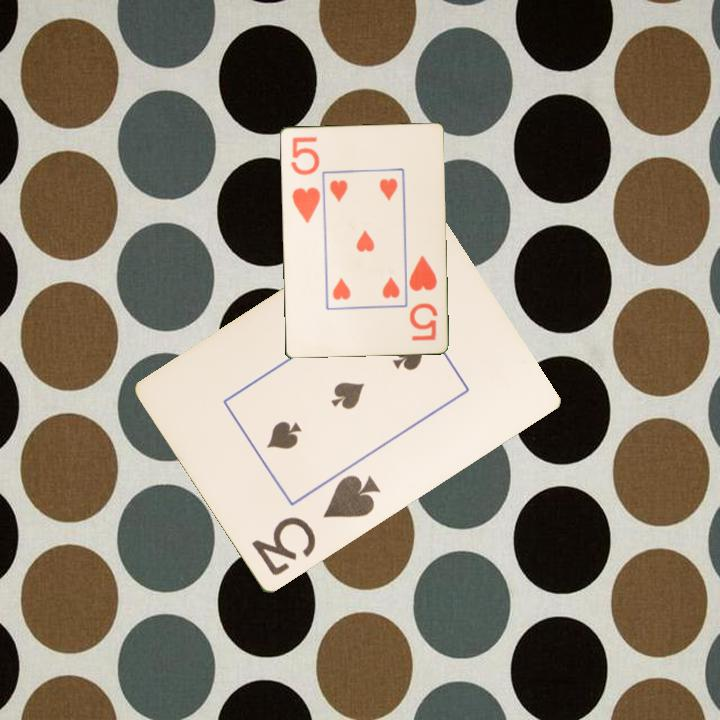3s: (248, 471, 383, 580)
5h: (287, 133, 322, 226), (405, 252, 440, 343)
